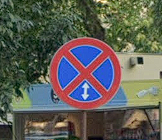oprirea_interzisa: (48, 33, 126, 113)
